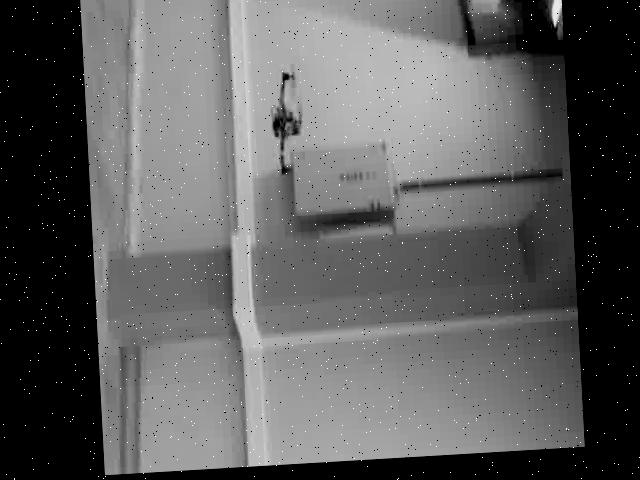drone: (266, 70, 307, 184)
